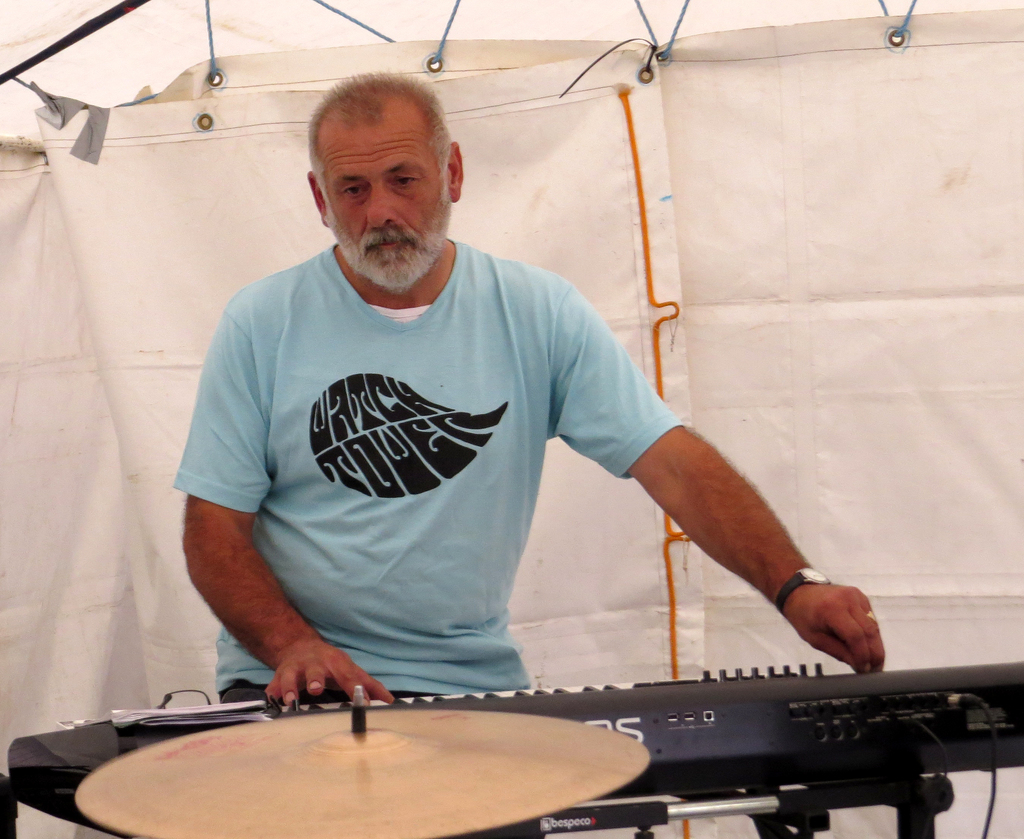Person: (172, 66, 886, 706)
